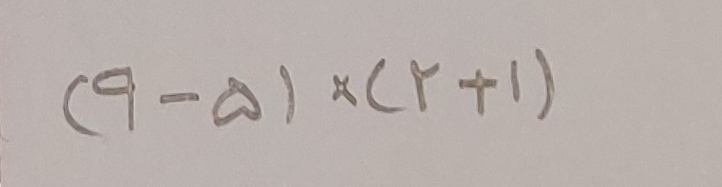character: (92, 66, 133, 130), (211, 76, 261, 126), (62, 74, 100, 137), (366, 58, 404, 112), (458, 68, 497, 114), (410, 59, 441, 112), (535, 49, 553, 119), (279, 65, 293, 122), (332, 75, 357, 105), (160, 92, 199, 105), (511, 59, 521, 103)
